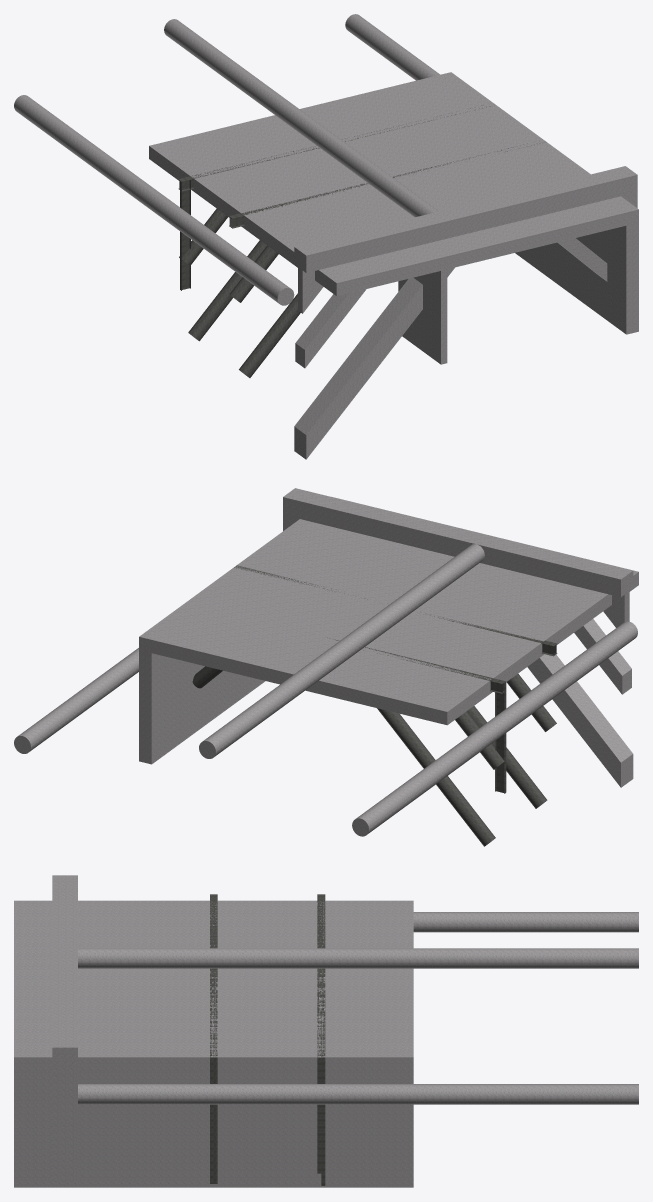
The picture shows the model from 3 angles, top to bottom: view 1: azimuth 30°, elevation 25°; view 2: azimuth 150°, elevation 25°; view 3: azimuth 270°, elevation 25°; orthographic projection. The views are drawn at different scales.
Visible parts, largest first — view 1: 0_3_1_2_0_2; view 2: 0_3_1_2_0_2; view 3: 0_3_1_2_0_2.
Boxes of the visible parts, left/top/right/bottom form: 0_3_1_2_0_2: left=14, top=14, right=638, bottom=459; 0_3_1_2_0_2: left=14, top=488, right=638, bottom=846; 0_3_1_2_0_2: left=14, top=875, right=638, bottom=1187.
Size of the model in its own units: 16.7 by 9.36 by 24.4.
27 materials, 27 textured.
